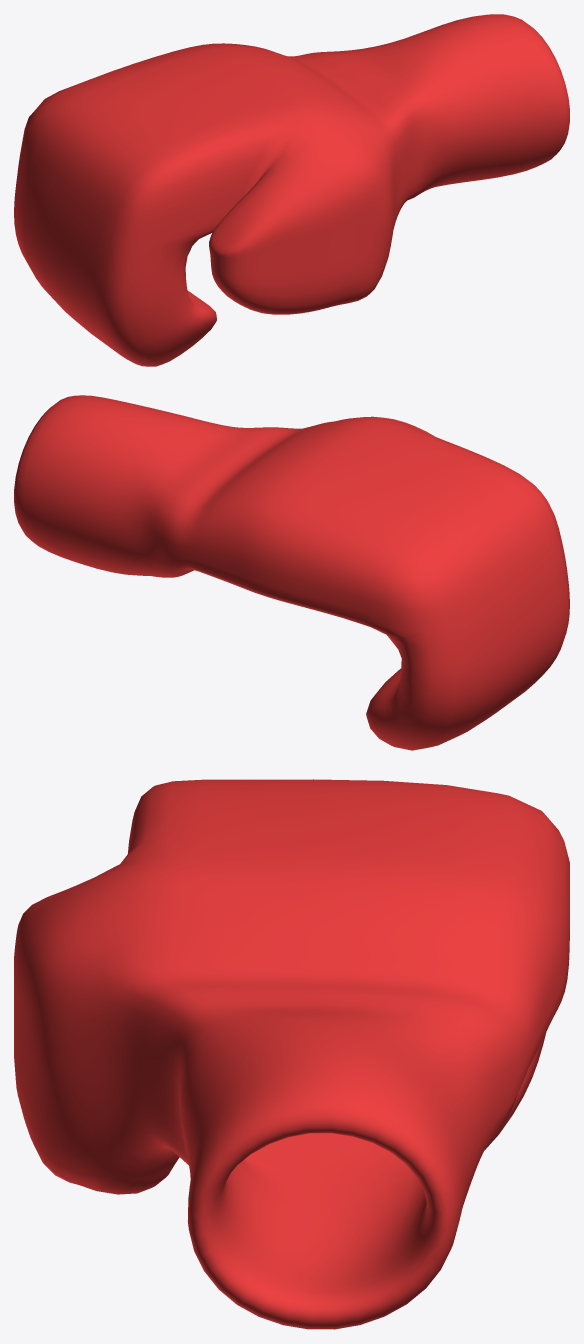
Rendered from Boxing Glove.fbx.
The picture shows the model from 3 angles, top to bottom: view 1: azimuth 30°, elevation 25°; view 2: azimuth 150°, elevation 25°; view 3: azimuth 270°, elevation 25°; orthographic projection. The views are drawn at different scales.
Visible parts, largest first — view 1: Cube.015; view 2: Cube.015; view 3: Cube.015.
Part boxes in pixels (x1,y1,x2,y2): Cube.015: [14, 14, 569, 366]; Cube.015: [14, 395, 569, 750]; Cube.015: [14, 779, 569, 1329].
Bounding box in the file's own units: 862 × 527 × 432.
